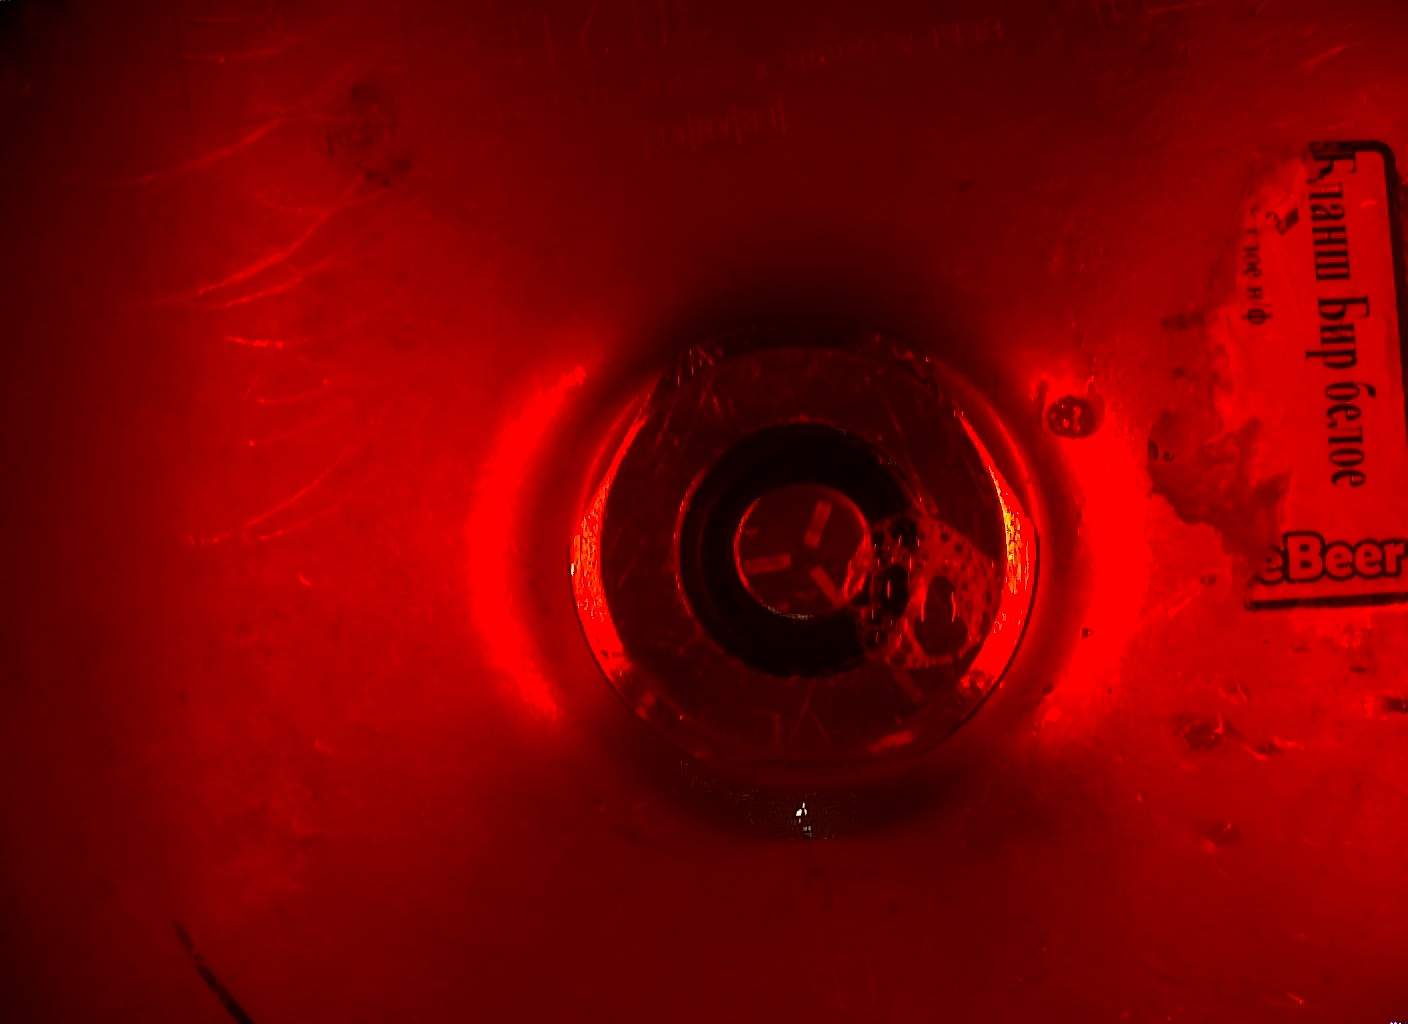pena: (832, 504, 1002, 684)
